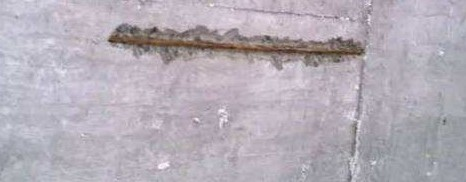Crack: (207, 4, 355, 23)
Exposed reinforcement: (107, 32, 363, 57)
Spalling: (107, 22, 364, 72)
